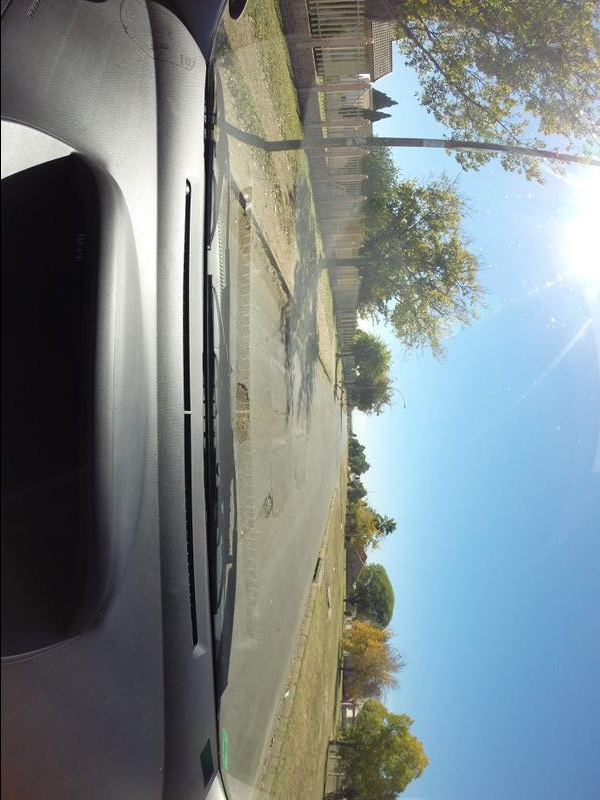pothole: (235, 376, 260, 464), (261, 492, 275, 524)
